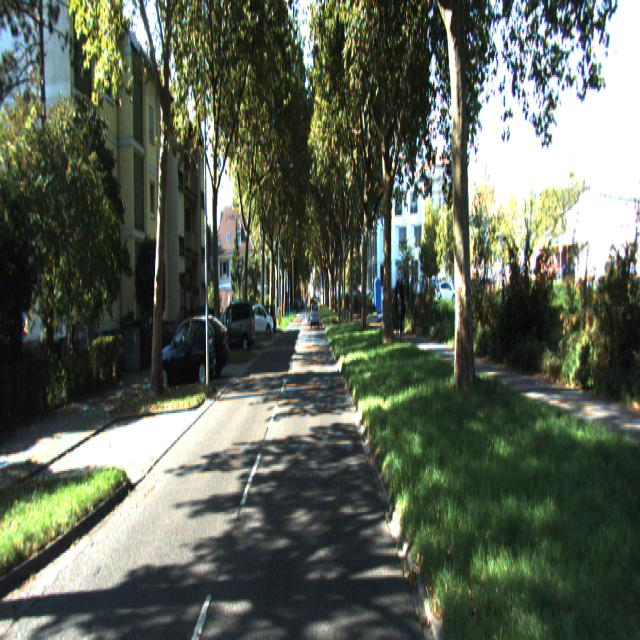Car: (156, 316, 220, 394), (213, 297, 257, 358), (250, 306, 275, 340)
